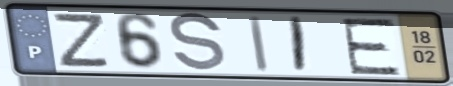6: (113, 11, 166, 73)
E: (338, 17, 403, 77)
I: (246, 14, 271, 75), (289, 14, 309, 75)
S: (167, 10, 229, 75)
Z: (52, 12, 113, 70)
